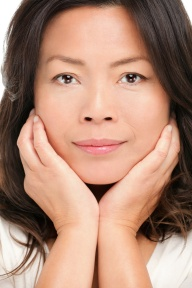Forehead: (24, 9, 172, 65)
